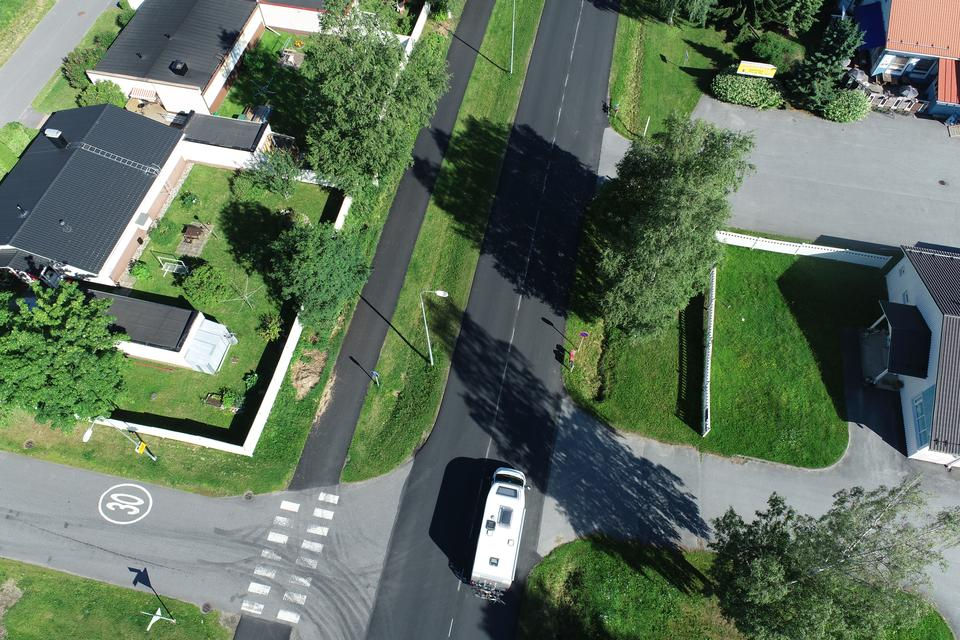intersection: (202, 457, 426, 640)
